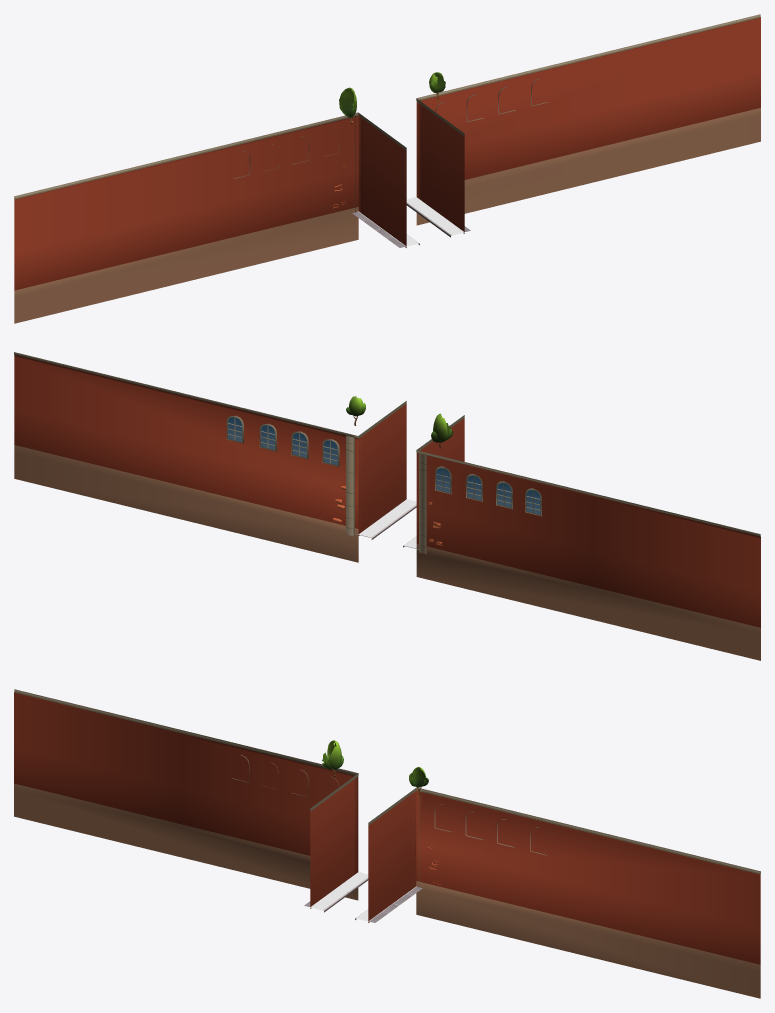
File: CityTunnel_08_Addon.fbx
3 renders of one model, top to bottom at view 1: azimuth 30°, elevation 25°; view 2: azimuth 150°, elevation 25°; view 3: azimuth 330°, elevation 25°, orthographic.
Parts seen in each view (by area): view 1: CityTunnel_08_Addon, shadows; view 2: CityTunnel_08_Addon, shadows; view 3: CityTunnel_08_Addon, shadows.
Boxes of the visible parts, x1=… form: CityTunnel_08_Addon: x1=14, y1=14, x2=760, y2=323; shadows: x1=358, y1=197, x2=464, y2=246; CityTunnel_08_Addon: x1=14, y1=352, x2=760, y2=660; shadows: x1=358, y1=499, x2=416, y2=548; CityTunnel_08_Addon: x1=14, y1=689, x2=760, y2=998; shadows: x1=310, y1=872, x2=416, y2=921.
Size of the model in its own units: 8921 by 1846 by 1027.
